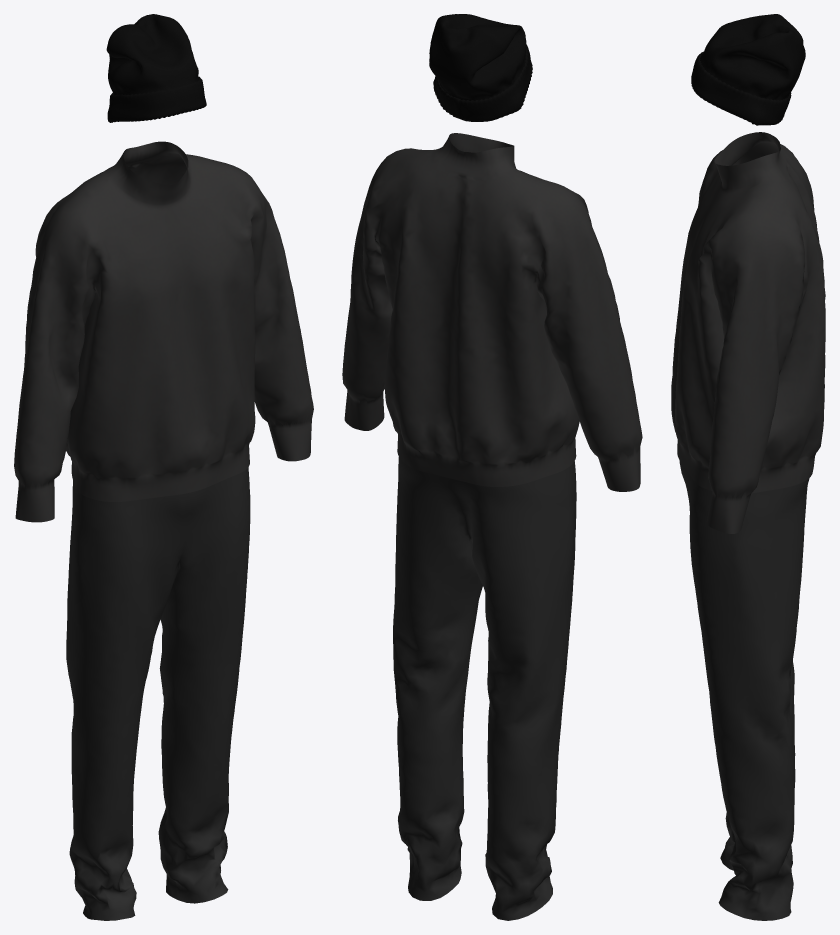
File: Beanie_Outfit_V01.obj
3 views of the same model, side by side, from view 1: azimuth 30°, elevation 25°; view 2: azimuth 150°, elevation 25°; view 3: azimuth 270°, elevation 25° (orthographic).
Size of the model in its own units: 652 by 1870 by 301.
